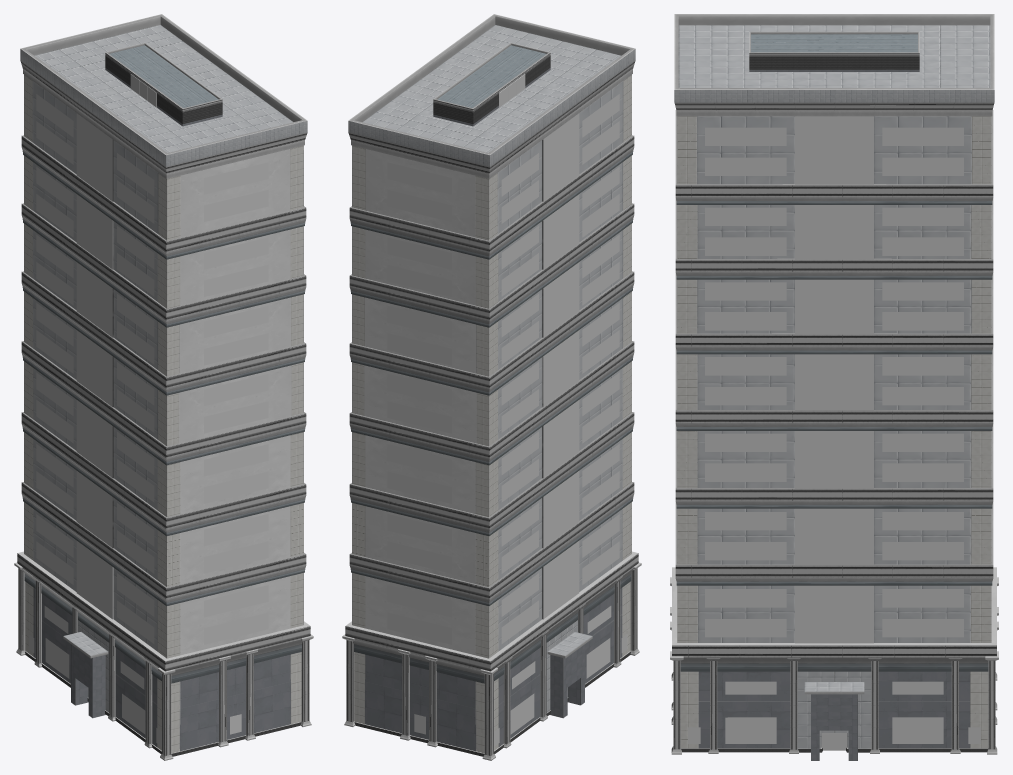
File: House_GV2.fbx
3 renders of one model, left to right at view 1: azimuth 30°, elevation 25°; view 2: azimuth 150°, elevation 25°; view 3: azimuth 270°, elevation 25°, orthographic. The views are drawn at different scales.
Visible parts, largest first — view 1: House_GV2; view 2: House_GV2; view 3: House_GV2.
Part boxes in pixels (<box>): House_GV2: <box>14,14,313,760</box>; House_GV2: <box>342,14,641,760</box>; House_GV2: <box>670,14,998,760</box>.
Size of what is drawn, in the model's own units: 31.44 by 106 by 46.85.
